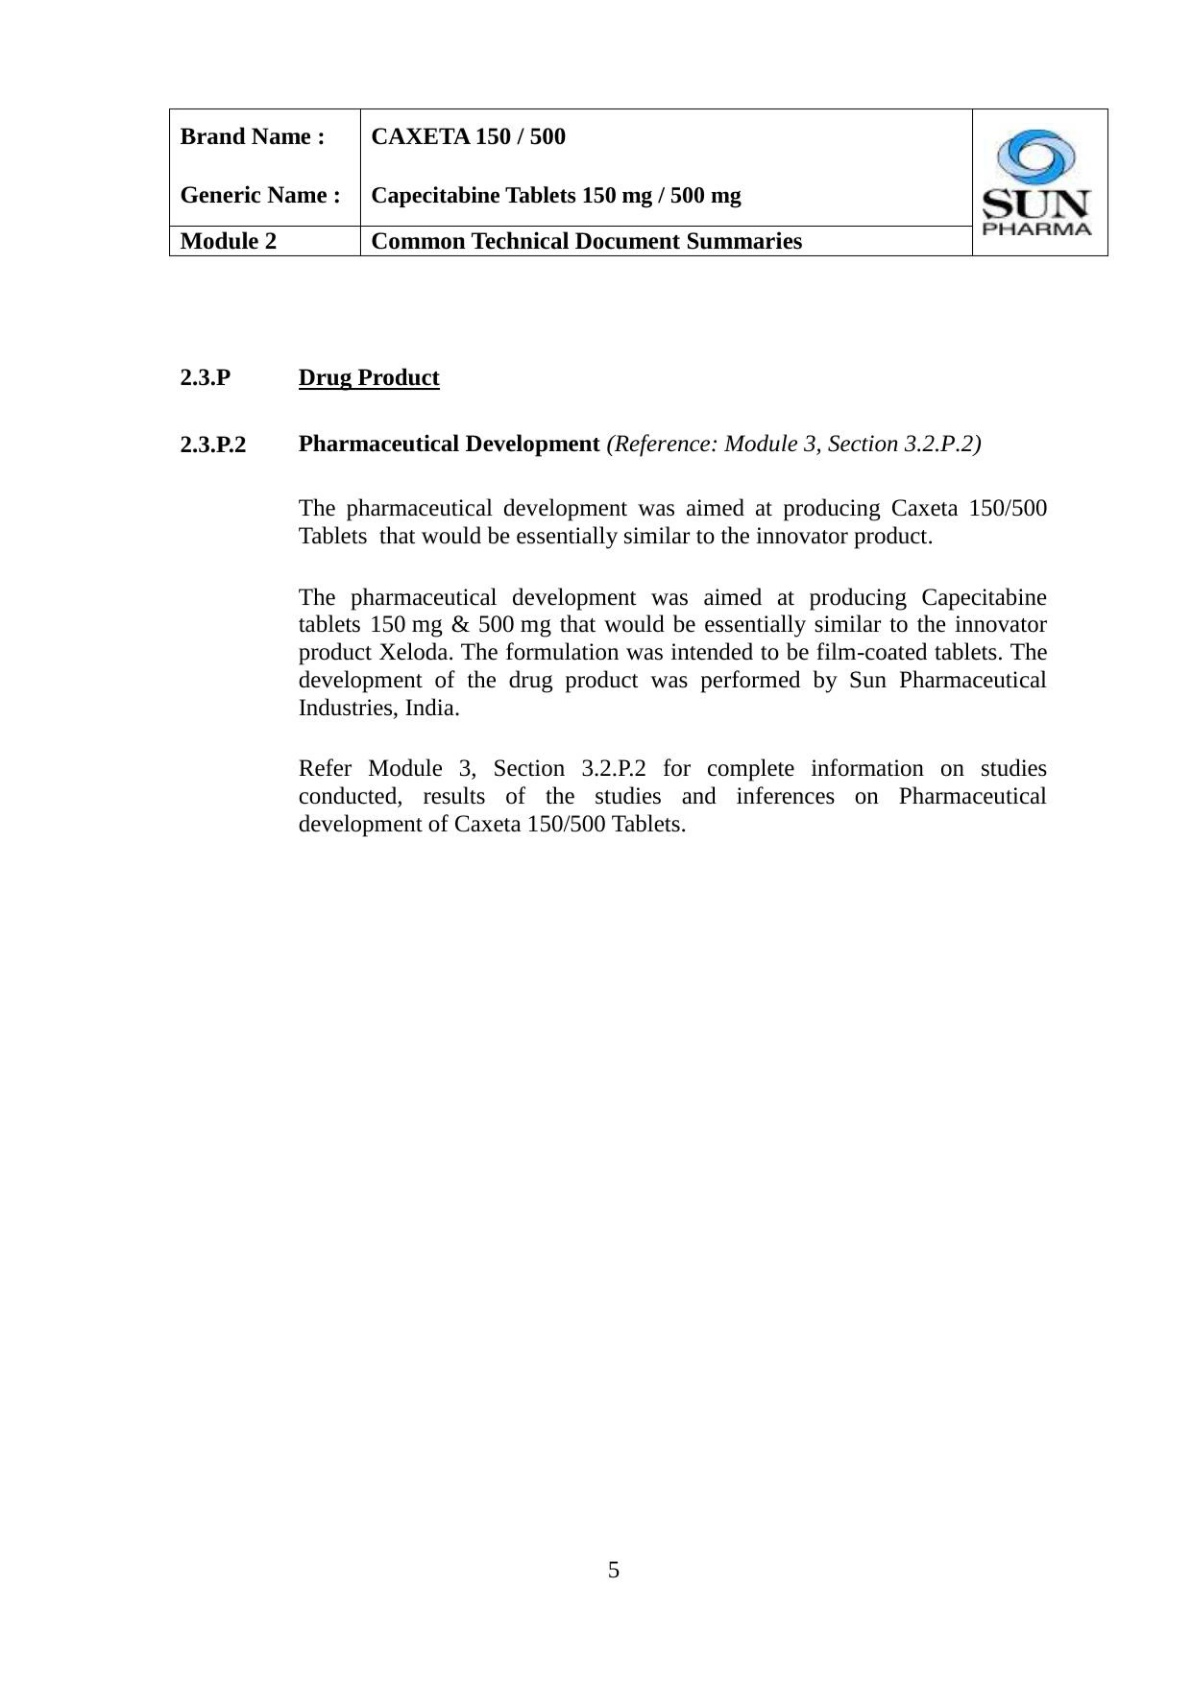merged_cells: (168, 107, 1109, 257)
